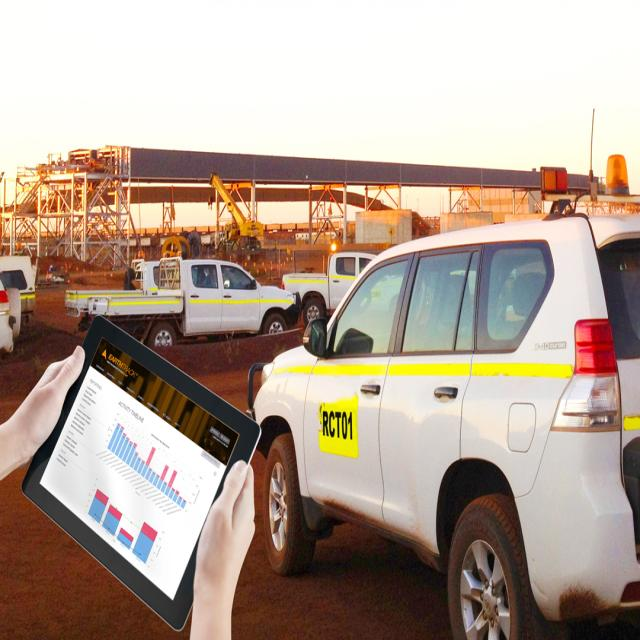light_vehicle: (236, 207, 639, 618), (61, 254, 310, 354)
